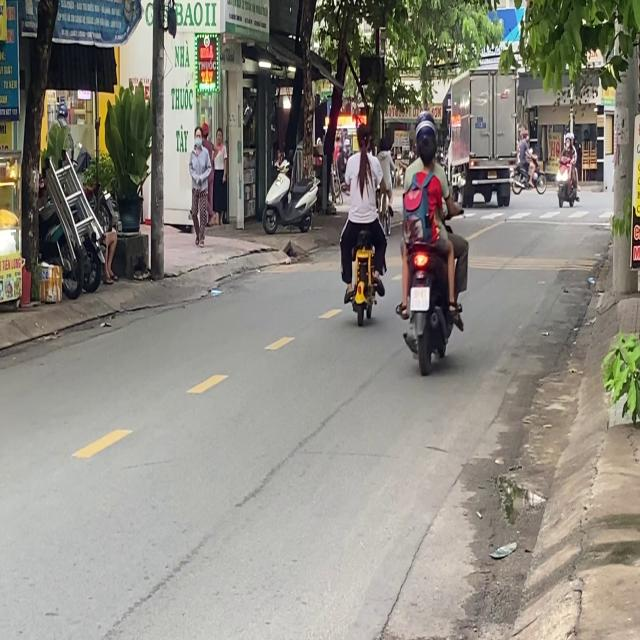helmet: (414, 112, 437, 140)
licenseplate: (394, 112, 469, 372), (337, 115, 389, 324)
motorcyclist: (416, 128, 437, 170), (355, 118, 371, 149)
nohelmet: (409, 286, 428, 310)
